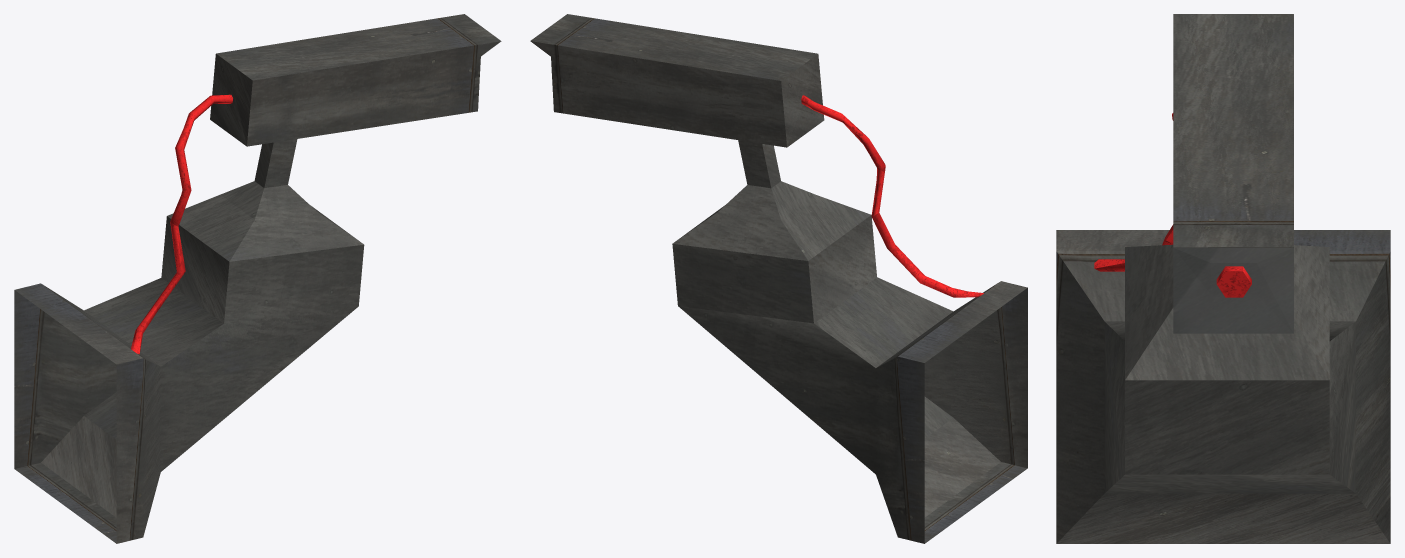
The model's file is camera.FBX.
3 views of the same model, side by side, from view 1: azimuth 30°, elevation 25°; view 2: azimuth 150°, elevation 25°; view 3: azimuth 270°, elevation 25° (orthographic). The views are drawn at different scales.
Visible parts, largest first — view 1: Cylinder001; view 2: Cylinder001; view 3: Cylinder001.
Part boxes in pixels (<box>): Cylinder001: <box>14,14,501,543</box>; Cylinder001: <box>530,14,1027,543</box>; Cylinder001: <box>1056,14,1390,543</box>.
Bounding box in the file's own units: 25.52 × 10.75 × 22.92.
